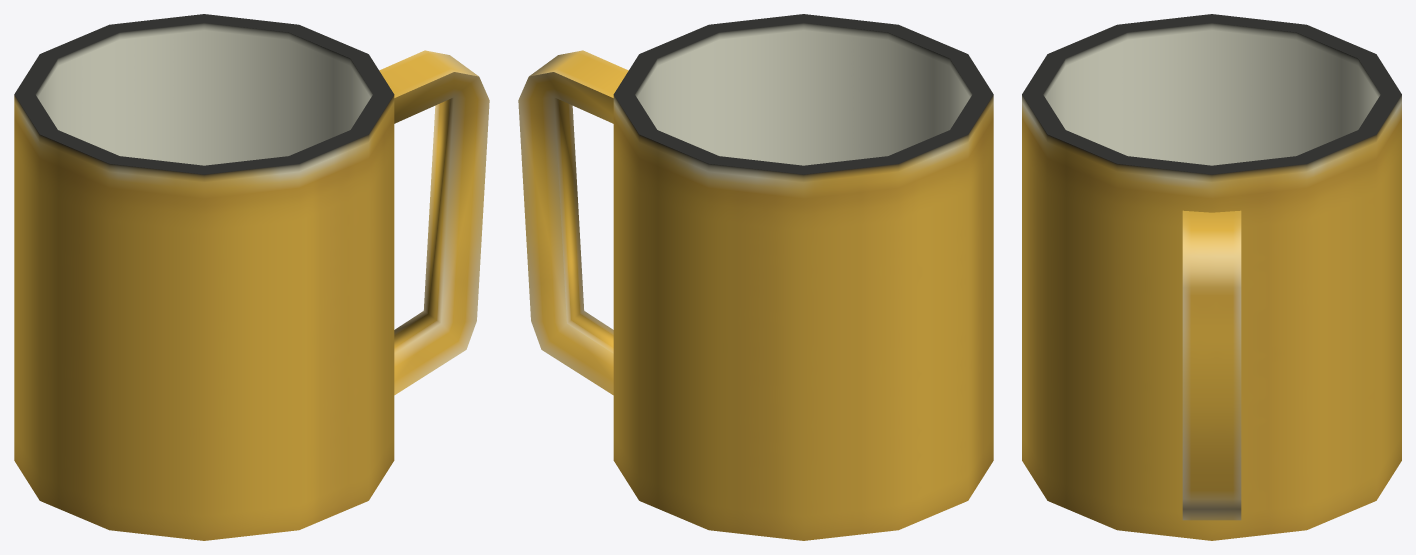
Rendered from KR_Mug_01_01.fbx.
3 views of the same model, side by side, from view 1: azimuth 30°, elevation 25°; view 2: azimuth 150°, elevation 25°; view 3: azimuth 270°, elevation 25° (orthographic).
Visible parts, largest first — view 1: kr_mug_01_01; view 2: kr_mug_01_01; view 3: kr_mug_01_01.
Part boxes in pixels (left/top/right/bottom): kr_mug_01_01: left=14, top=14, right=489, bottom=540; kr_mug_01_01: left=518, top=14, right=993, bottom=540; kr_mug_01_01: left=1022, top=14, right=1401, bottom=540.
Bounding box in the file's own units: 10.56 × 8.5 × 7.99.
